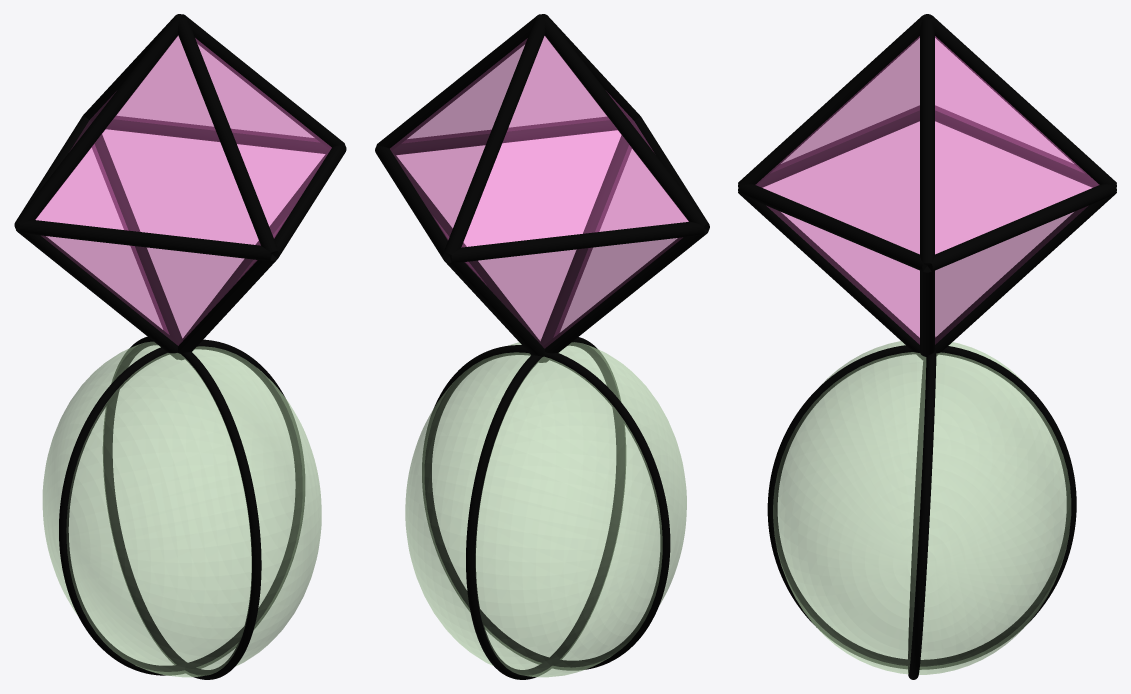
File: octohedron on ovaloid.fbx
The picture shows the model from 3 angles, left to right: view 1: azimuth 30°, elevation 25°; view 2: azimuth 150°, elevation 25°; view 3: azimuth 270°, elevation 25°; orthographic projection.
Visible parts, largest first — view 1: ReferenceEllipsoid, ReferenceOctahedron, meridian_curve_obj, equator_curve_obj, OctaEdge.011, OctaEdge.005, OctaEdge.008, OctaEdge, OctaEdge.006, OctaEdge.010, OctaEdge.007, OctaEdge.004 (+4 smaller); view 2: ReferenceEllipsoid, ReferenceOctahedron, meridian_curve_obj, equator_curve_obj, OctaEdge.003, OctaEdge.005, OctaEdge.002, OctaEdge.009, OctaEdge.004, OctaEdge.007, OctaEdge.010, OctaEdge.006 (+4 smaller); view 3: ReferenceEllipsoid, ReferenceOctahedron, equator_curve_obj, meridian_curve_obj, OctaEdge.007, OctaEdge.002, OctaEdge.008, OctaEdge.004, OctaEdge.006, OctaEdge, OctaEdge.009, OctaEdge.003 (+2 smaller).
Boxes of the visible parts, x1,y1,x2,y2 form: ReferenceEllipsoid: [42, 342, 321, 677]; ReferenceOctahedron: [35, 35, 331, 345]; meridian_curve_obj: [59, 339, 304, 675]; equator_curve_obj: [103, 336, 261, 679]; OctaEdge.011: [19, 220, 271, 260]; OctaEdge.005: [16, 16, 178, 224]; OctaEdge.008: [177, 17, 277, 253]; OctaEdge: [106, 116, 329, 153]; OctaEdge.006: [92, 134, 182, 342]; OctaEdge.010: [16, 227, 179, 359]; OctaEdge.007: [181, 14, 344, 149]; OctaEdge.004: [177, 254, 277, 360]; ReferenceEllipsoid: [405, 339, 686, 677]; ReferenceOctahedron: [390, 36, 688, 348]; meridian_curve_obj: [422, 345, 670, 670]; equator_curve_obj: [466, 337, 625, 679]; OctaEdge.003: [450, 221, 704, 262]; OctaEdge.005: [544, 16, 708, 226]; OctaEdge.002: [444, 17, 545, 255]; OctaEdge.009: [392, 117, 617, 155]; OctaEdge.004: [540, 135, 631, 345]; OctaEdge.007: [376, 14, 541, 150]; OctaEdge.010: [543, 229, 708, 362]; OctaEdge.006: [444, 256, 544, 362]; ReferenceEllipsoid: [773, 341, 1070, 674]; ReferenceOctahedron: [756, 36, 1098, 344]; equator_curve_obj: [767, 345, 1076, 669]; meridian_curve_obj: [908, 337, 936, 679]; OctaEdge.007: [920, 18, 934, 265]; OctaEdge.002: [929, 15, 1116, 185]; OctaEdge.008: [738, 15, 925, 185]; OctaEdge.004: [738, 192, 922, 359]; OctaEdge.006: [935, 192, 1116, 356]; OctaEdge: [928, 184, 1116, 271]; OctaEdge.009: [738, 184, 926, 271]; OctaEdge.003: [935, 105, 1116, 187].
Size of the model in its own units: 206 by 392 by 206.
